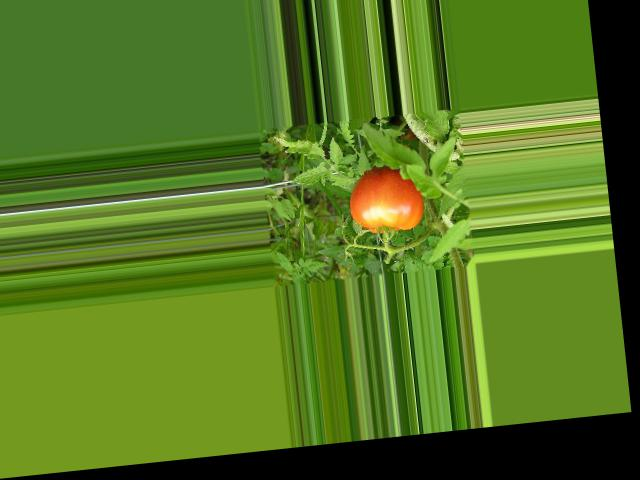tomato: (346, 164, 425, 236)
